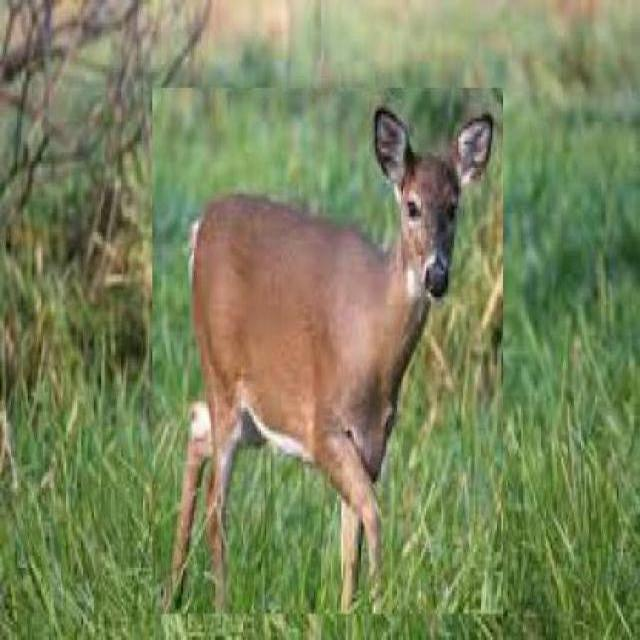deer: (152, 88, 505, 616)
